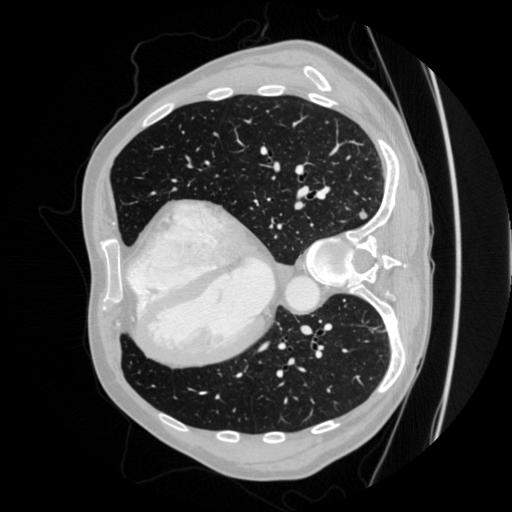nodule: (357, 208, 370, 221)
